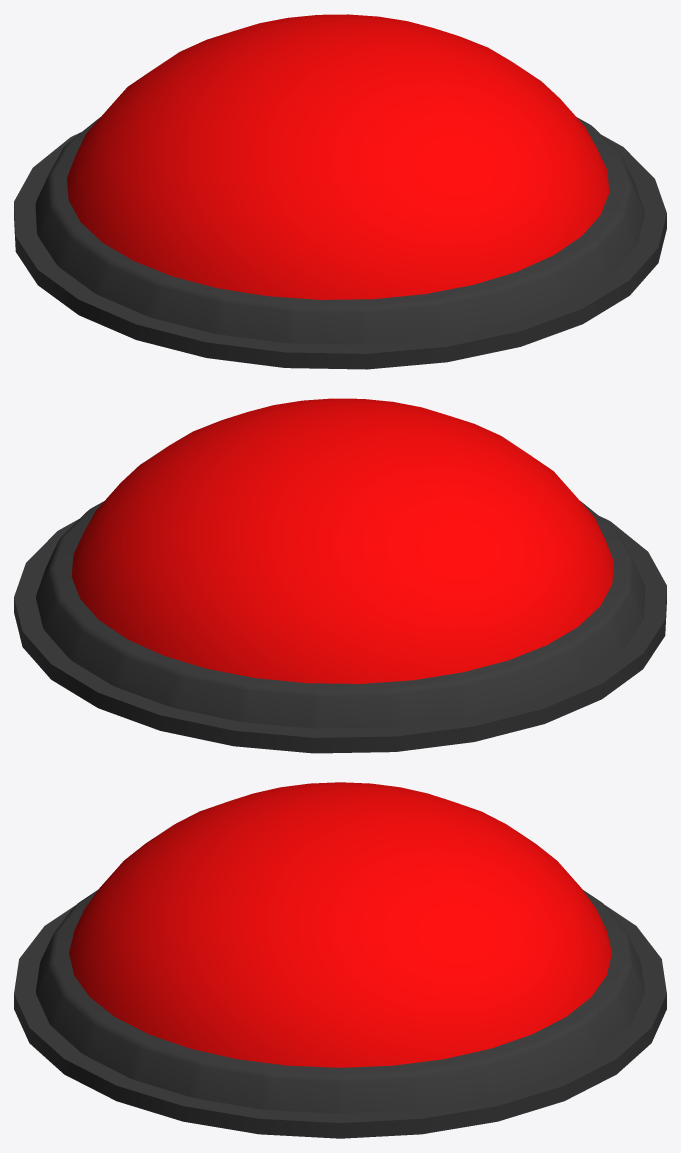
Rendered from Lämp.fbx.
3 renders of one model, top to bottom at view 1: azimuth 30°, elevation 25°; view 2: azimuth 150°, elevation 25°; view 3: azimuth 270°, elevation 25°, orthographic.
Parts seen in each view (by area): view 1: Lampe klein, Cylinder003; view 2: Lampe klein, Cylinder003; view 3: Lampe klein, Cylinder003.
Boxes of the visible parts, x1,y1,x2,y2 form: Lampe klein: (67, 14, 609, 299); Cylinder003: (14, 117, 666, 369); Lampe klein: (71, 398, 613, 683); Cylinder003: (14, 501, 666, 753); Lampe klein: (69, 782, 611, 1067); Cylinder003: (14, 889, 666, 1138).
Bounding box in the file's own units: 130 × 40.16 × 131.
